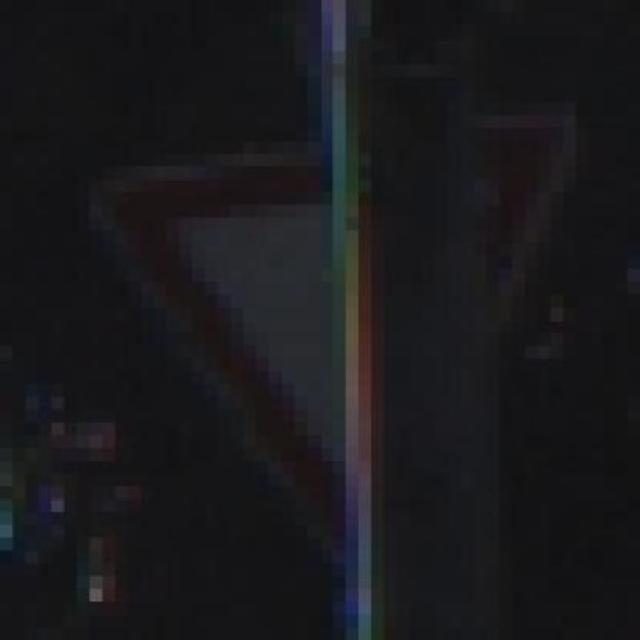Give Way: (86, 74, 637, 560)
